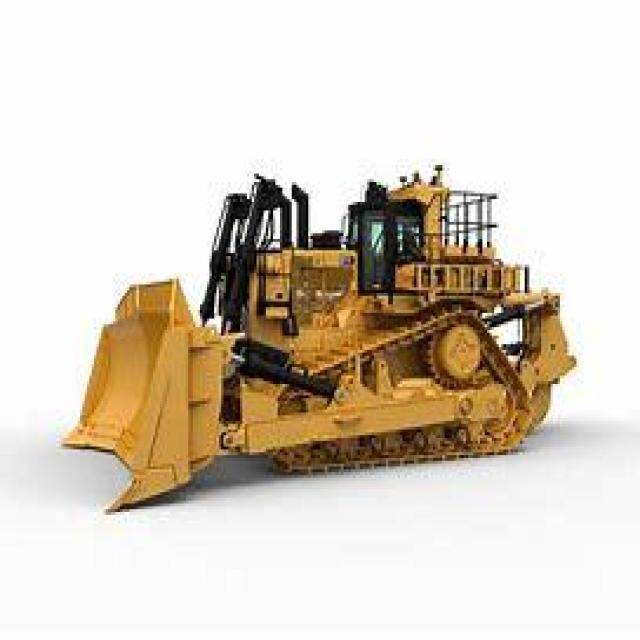buldozerpayloadergrader: (61, 151, 579, 523)
